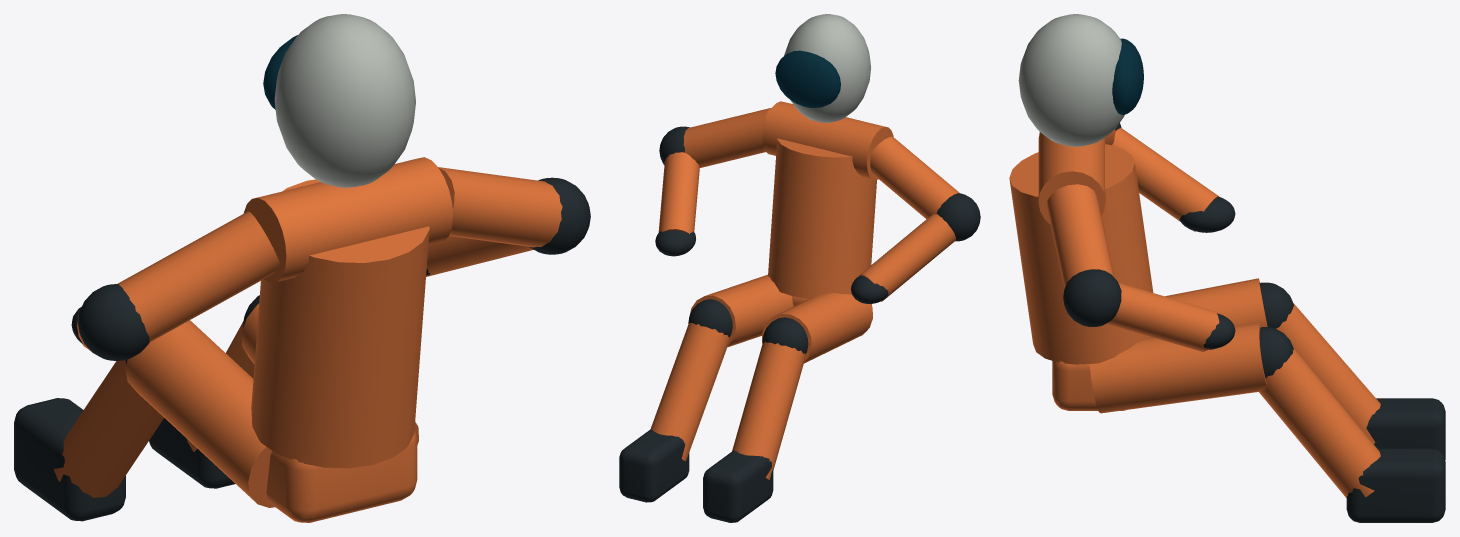
The model's file is cockpit-fit-medium.glb.
3 renders of one model, left to right at view 1: azimuth 30°, elevation 25°; view 2: azimuth 150°, elevation 25°; view 3: azimuth 270°, elevation 25°, orthographic. The views are drawn at different scales.
Parts seen in each view (by area): view 1: Dummy torso.001, Dummy helmet.001, Dummy thigh.002, Dummy shoulder line.001, Dummy upper arm.002, Dummy shin.002, Dummy pelvis.001, Dummy upper arm.003, Dummy boot.002, Dummy elbow.002, Dummy boot.003, Dummy forearm.003 (+4 smaller); view 2: Dummy torso.001, Dummy shin.002, Dummy shin.003, Dummy helmet.001, Dummy shoulder line.001, Dummy boot.002, Dummy boot.003, Dummy thigh.002, Dummy upper arm.002, Dummy upper arm.003, Dummy forearm.002, Dummy thigh.003 (+8 smaller); view 3: Dummy torso.001, Dummy helmet.001, Dummy thigh.003, Dummy shin.003, Dummy boot.003, Dummy upper arm.003, Dummy forearm.003, Dummy shin.002, Dummy forearm.002, Dummy boot.002, Dummy shoulder line.001, Dummy elbow.003 (+7 smaller).
Part boxes in pixels (bbox=[...]): Dummy torso.001: bbox=[251, 179, 429, 468]; Dummy helmet.001: bbox=[274, 14, 415, 187]; Dummy thigh.002: bbox=[125, 320, 274, 507]; Dummy shoulder line.001: bbox=[243, 157, 452, 282]; Dummy upper arm.002: bbox=[117, 211, 279, 341]; Dummy shin.002: bbox=[54, 360, 163, 497]; Dummy pelvis.001: bbox=[266, 431, 417, 522]; Dummy upper arm.003: bbox=[438, 167, 562, 247]; Dummy boot.002: bbox=[14, 398, 125, 521]; Dummy elbow.002: bbox=[78, 284, 149, 360]; Dummy boot.003: bbox=[149, 418, 235, 488]; Dummy forearm.003: bbox=[426, 236, 533, 276]; Dummy torso.001: bbox=[768, 138, 876, 298]; Dummy shin.002: bbox=[732, 341, 805, 479]; Dummy shin.003: bbox=[650, 322, 729, 461]; Dummy helmet.001: bbox=[784, 14, 870, 122]; Dummy shoulder line.001: bbox=[762, 101, 893, 180]; Dummy boot.002: bbox=[703, 450, 773, 522]; Dummy boot.003: bbox=[619, 429, 689, 502]; Dummy thigh.002: bbox=[761, 293, 872, 363]; Dummy upper arm.002: bbox=[870, 137, 960, 218]; Dummy upper arm.003: bbox=[683, 108, 771, 167]; Dummy forearm.002: bbox=[859, 214, 955, 301]; Dummy thigh.003: bbox=[690, 274, 793, 347]; Dummy torso.001: bbox=[1009, 144, 1153, 364]; Dummy helmet.001: bbox=[1018, 14, 1124, 146]; Dummy thigh.003: bbox=[1089, 322, 1267, 413]; Dummy shin.003: bbox=[1259, 347, 1380, 497]; Dummy boot.003: bbox=[1346, 448, 1445, 522]; Dummy upper arm.003: bbox=[1047, 184, 1114, 288]; Dummy forearm.003: bbox=[1106, 283, 1219, 351]; Dummy shin.002: bbox=[1276, 303, 1380, 443]; Dummy forearm.002: bbox=[1112, 128, 1219, 231]; Dummy boot.002: bbox=[1366, 398, 1445, 459]; Dummy shoulder line.001: bbox=[1038, 132, 1105, 224]; Dummy elbow.003: bbox=[1063, 269, 1121, 326].
Bounding box in the file's own units: 1.13 × 1.32 × 1.1.
